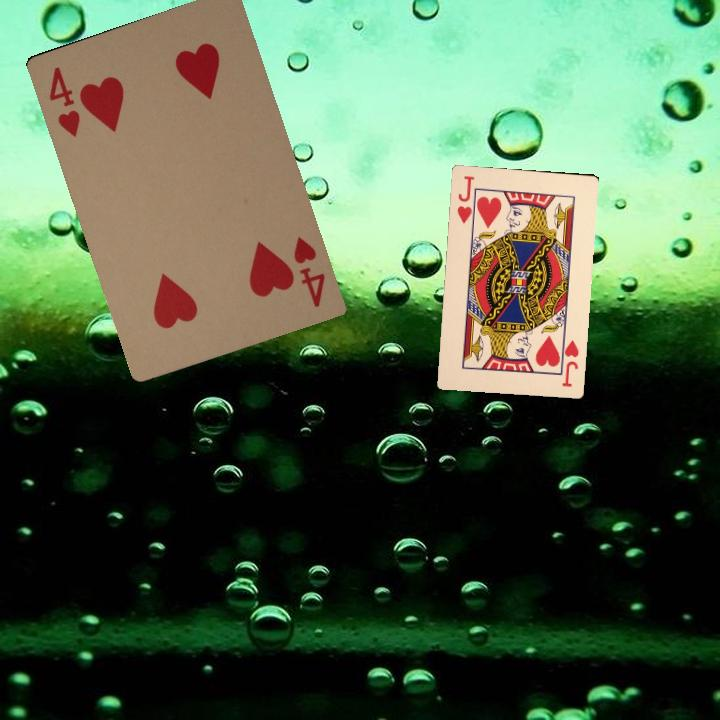4h: (289, 231, 328, 310), (44, 62, 83, 139)
Jh: (453, 172, 479, 227), (555, 335, 581, 389)
